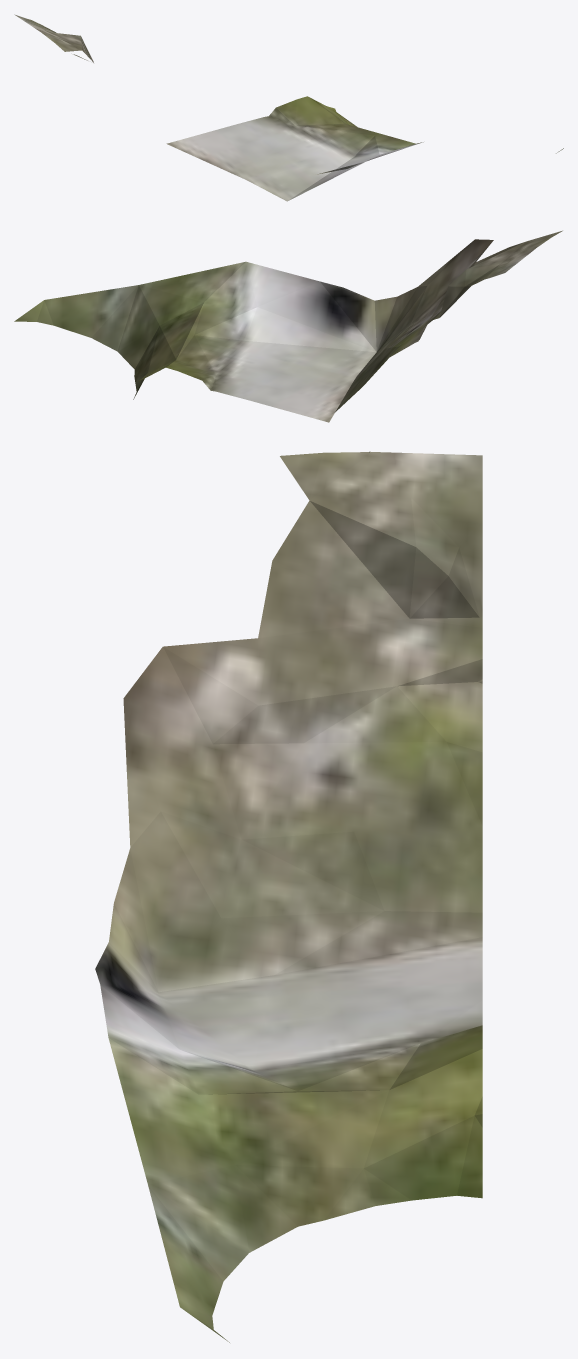
The picture shows the model from 3 angles, top to bottom: view 1: azimuth 30°, elevation 25°; view 2: azimuth 150°, elevation 25°; view 3: azimuth 270°, elevation 25°; orthographic projection. The views are drawn at different scales.
Bounding box in the file's own units: 27.72 × 11.35 × 9.55.
1 material, 1 textured.
